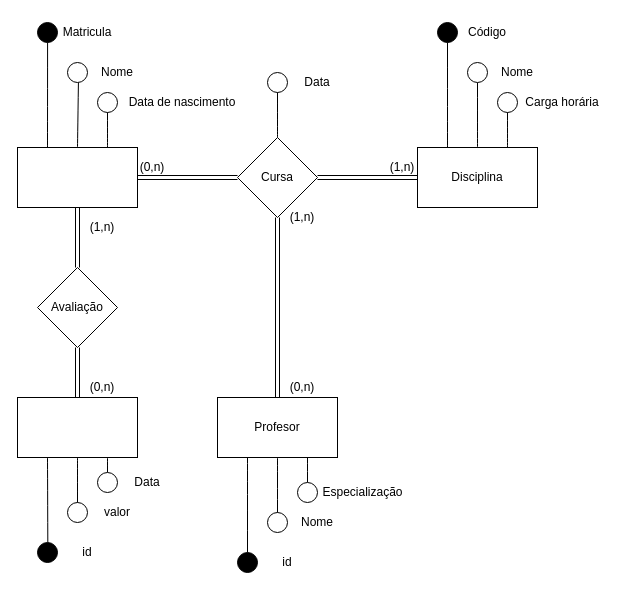
This 625x594 diagram has some shape labels left out. Here are the shapes that lost their labels. From the top down, the centre of each, then its label:
At [77,177]: "Alunos".
At [77,427]: "Notas".
